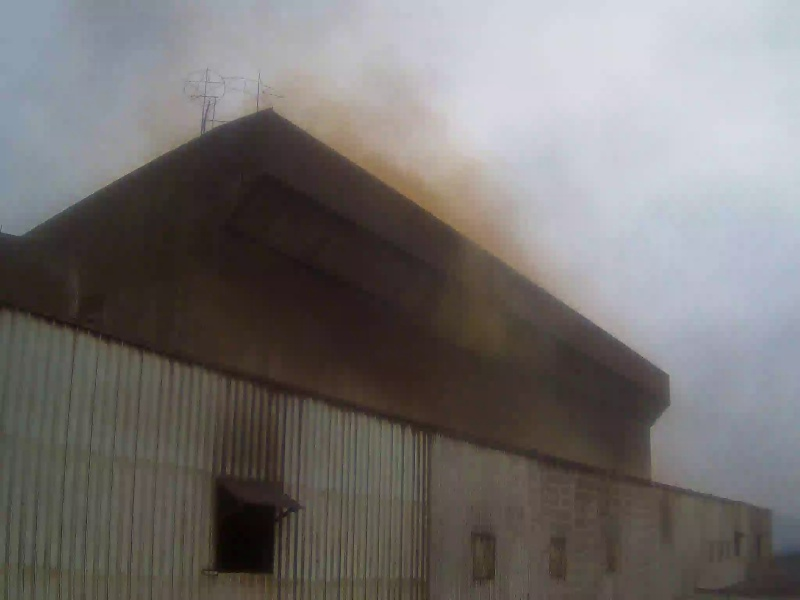Galpao: (1, 229, 669, 600)
Janela: (212, 474, 287, 581)
Pessimo: (467, 272, 494, 303), (468, 219, 511, 237), (445, 204, 488, 222), (430, 191, 473, 209), (406, 176, 449, 194), (383, 161, 426, 179), (358, 145, 401, 163), (466, 315, 492, 337), (467, 246, 509, 257)
